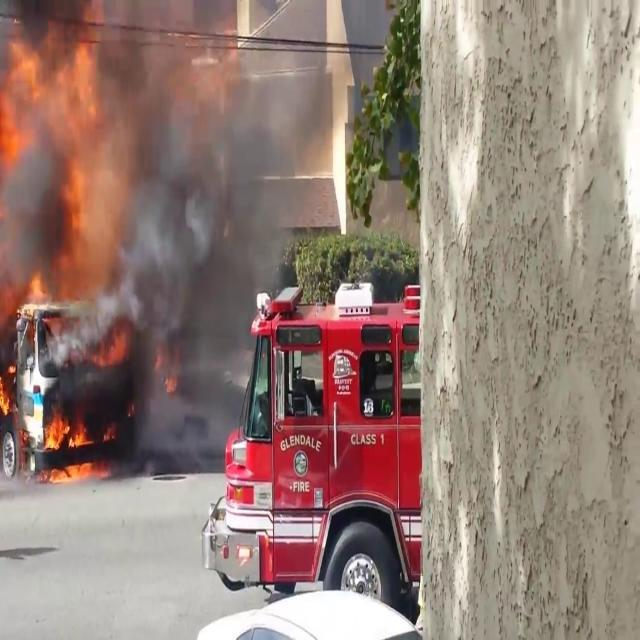Fire: (4, 31, 112, 271), (42, 406, 92, 464)
Smoke: (0, 0, 335, 381)
